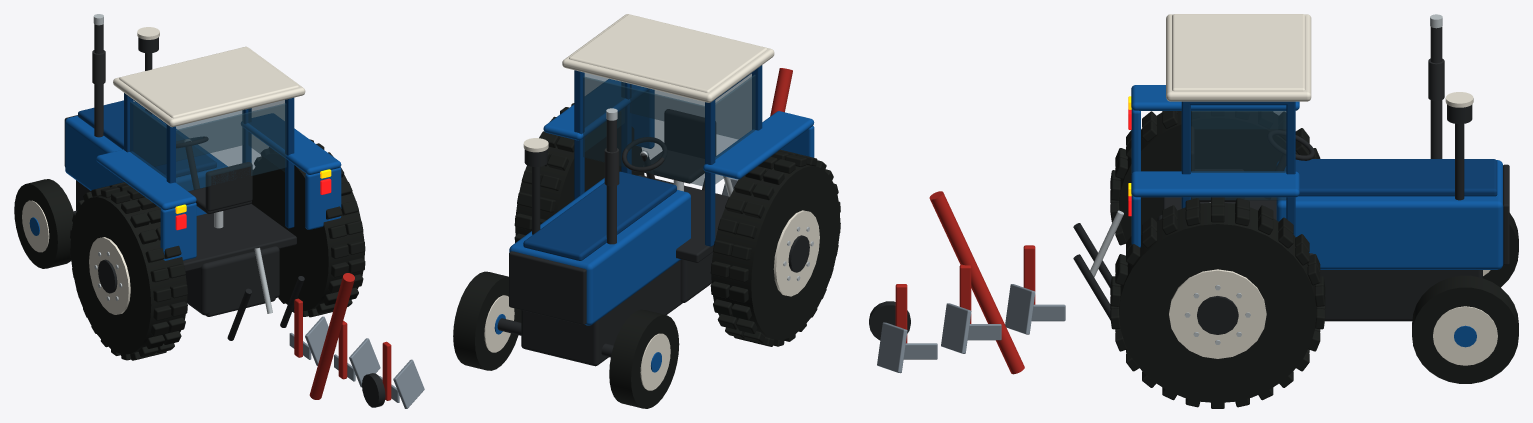
Rendered from tractor-ebro.glb.
3 views of the same model, side by side, from view 1: azimuth 30°, elevation 25°; view 2: azimuth 150°, elevation 25°; view 3: azimuth 270°, elevation 25° (orthographic). The views are drawn at different scales.
Visible parts, largest first — view 1: safety_arch, rear_wheel_-1, rear_wheel_1, hood, chassis, fender_-1, front_wheel_-1, fender_1, cabin, seat, plow_body_2, plow_implement (+14 smaller); view 2: safety_arch, rear_wheel_-1, hood, chassis, front_wheel_-1, front_wheel_1, front_grill, fender_-1, rear_wheel_1, fender_1, seat, cabin (+15 smaller); view 3: rear_wheel_1, hood, safety_arch, front_wheel_1, rear_wheel_-1, chassis, fender_1, plow_body_2, plow_implement, fender_-1, plow_body_0, plow_body_1 (+7 smaller).
Part boxes in pixels (<box>): safety_arch: <box>113,46,305,228</box>; rear_wheel_-1: <box>70,195,187,354</box>; rear_wheel_1: <box>251,153,364,311</box>; hood: <box>65,100,227,215</box>; chassis: <box>76,180,279,316</box>; fender_-1: <box>96,149,196,260</box>; front_wheel_-1: <box>14,179,73,268</box>; fender_1: <box>241,114,341,229</box>; cabin: <box>183,203,296,271</box>; seat: <box>188,162,252,228</box>; plow_body_2: <box>362,341,424,408</box>; plow_implement: <box>309,273,354,399</box>; safety_arch: <box>562,14,774,246</box>; rear_wheel_-1: <box>711,164,840,340</box>; hood: <box>509,171,690,325</box>; chassis: <box>521,252,713,366</box>; front_wheel_-1: <box>609,309,679,408</box>; front_wheel_1: <box>453,271,521,370</box>; front_grill: <box>509,251,586,324</box>; fender_-1: <box>703,111,814,179</box>; rear_wheel_1: <box>515,119,644,235</box>; fender_1: <box>543,79,654,148</box>; seat: <box>642,109,716,191</box>; cabin: <box>638,175,729,262</box>; rear_wheel_1: <box>1119,203,1316,402</box>; hood: <box>1276,159,1503,269</box>; safety_arch: <box>1166,14,1311,236</box>; front_wheel_1: <box>1412,275,1518,383</box>; rear_wheel_-1: <box>1119,111,1298,241</box>; chassis: <box>1157,215,1482,321</box>; fender_1: <box>1128,171,1299,247</box>; plow_body_2: <box>869,284,937,373</box>; plow_implement: <box>929,191,1024,374</box>; fender_-1: <box>1128,85,1299,173</box>; plow_body_0: <box>1005,245,1065,334</box>; plow_body_1: <box>941,264,1001,353</box>.
Size of the model in its own units: 2.7 by 3.11 by 5.59.
